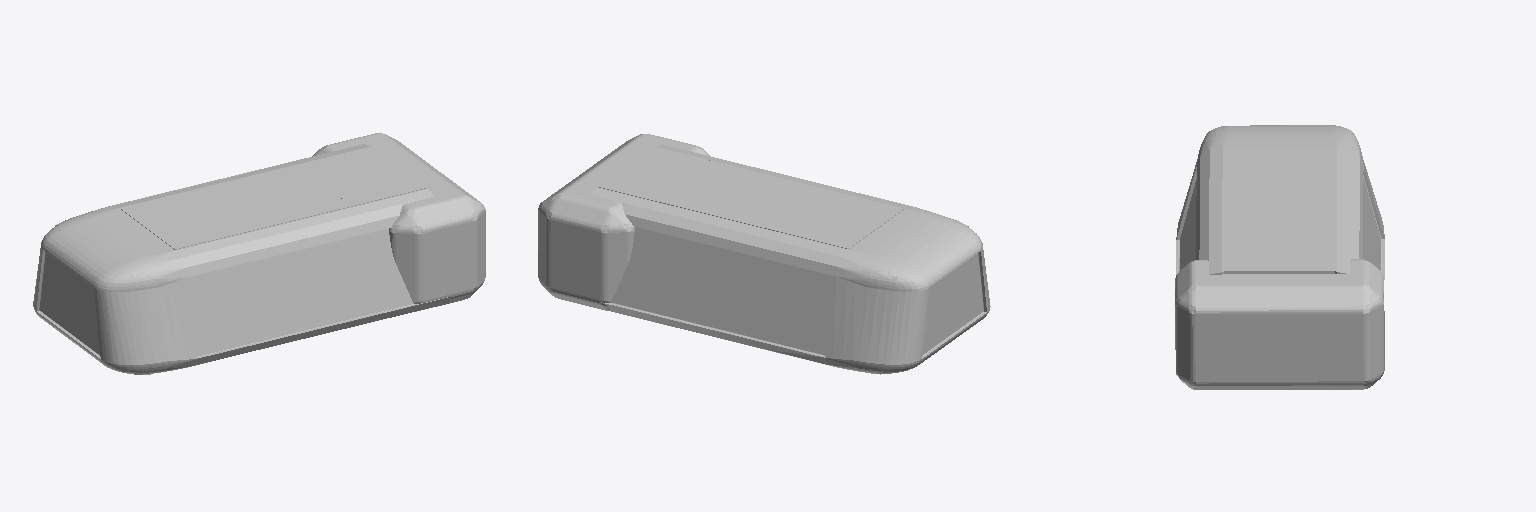
The model's file is body.obj.
3 renders of one model, left to right at view 1: azimuth 30°, elevation 25°; view 2: azimuth 150°, elevation 25°; view 3: azimuth 270°, elevation 25°, orthographic.
Visible parts, largest first — view 1: body_Cube.001; view 2: body_Cube.001; view 3: body_Cube.001.
Part boxes in pixels (left/top/right/bottom): body_Cube.001: left=33, top=133, right=485, bottom=374; body_Cube.001: left=538, top=134, right=990, bottom=374; body_Cube.001: left=1175, top=125, right=1384, bottom=389.
Bounding box in the file's own units: 0.3652 × 0.1015 × 0.1769.